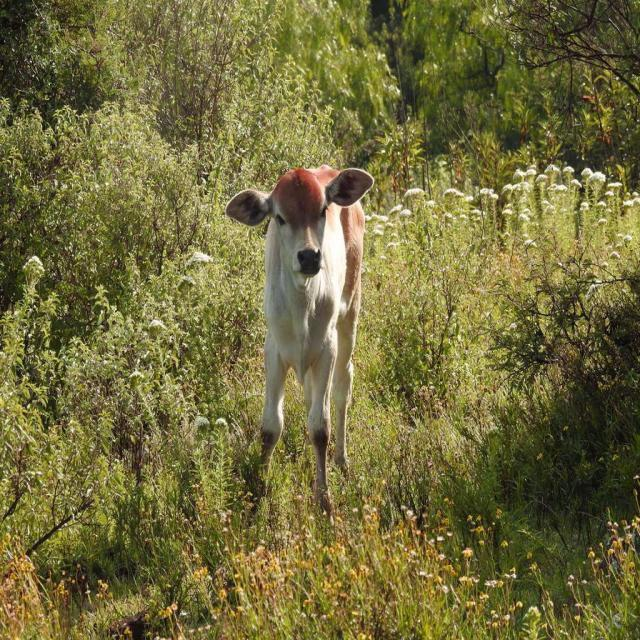cow: (226, 166, 374, 512)
